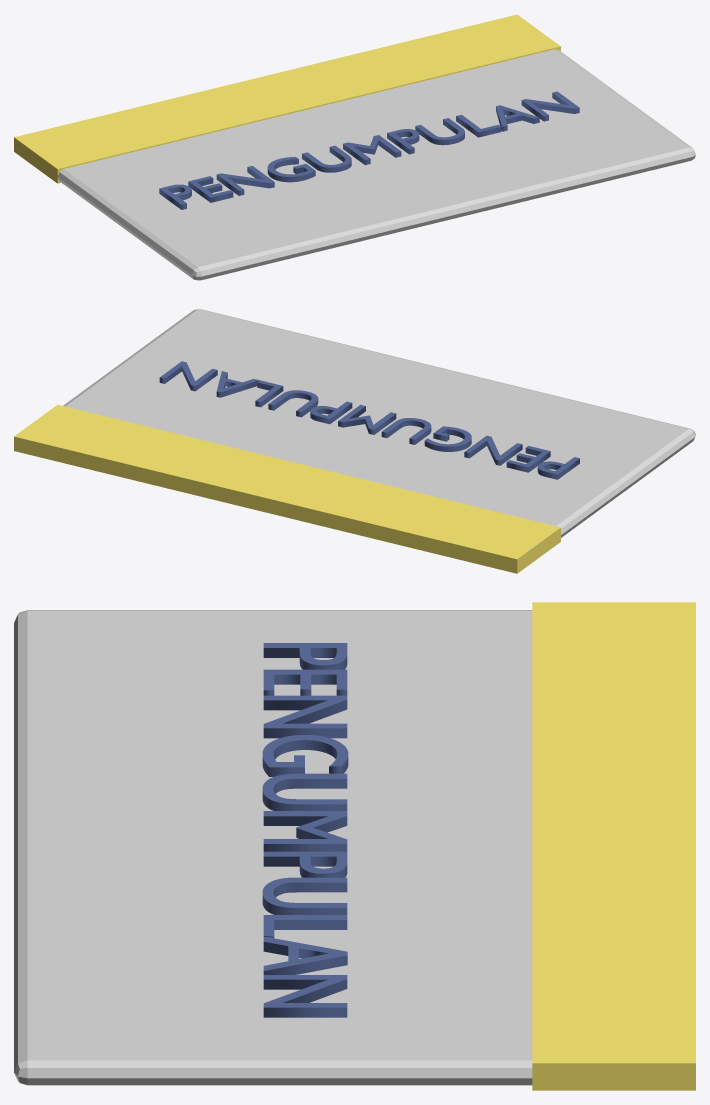
Rendered from card_pengumpulan.glb.
The picture shows the model from 3 angles, top to bottom: view 1: azimuth 30°, elevation 25°; view 2: azimuth 150°, elevation 25°; view 3: azimuth 270°, elevation 25°; orthographic projection. The views are drawn at different scales.
Visible parts, largest first — view 1: card, card_band, card_word; view 2: card, card_band, card_word; view 3: card, card_band, card_word.
Boxes of the visible parts, x1=… form: card: x1=57, y1=49, x2=695, y2=280; card_band: x1=14, y1=14, x2=560, y2=183; card_word: x1=159, y1=91, x2=579, y2=209; card: x1=63, y1=309, x2=695, y2=537; card_band: x1=14, y1=404, x2=560, y2=573; card_word: x1=159, y1=361, x2=579, y2=479; card: x1=14, y1=610, x2=532, y2=1085; card_band: x1=532, y1=602, x2=695, y2=1090; card_word: x1=262, y1=643, x2=348, y2=1017.
Size of the model in its own units: 0.08 by 0.0028 by 0.05.
